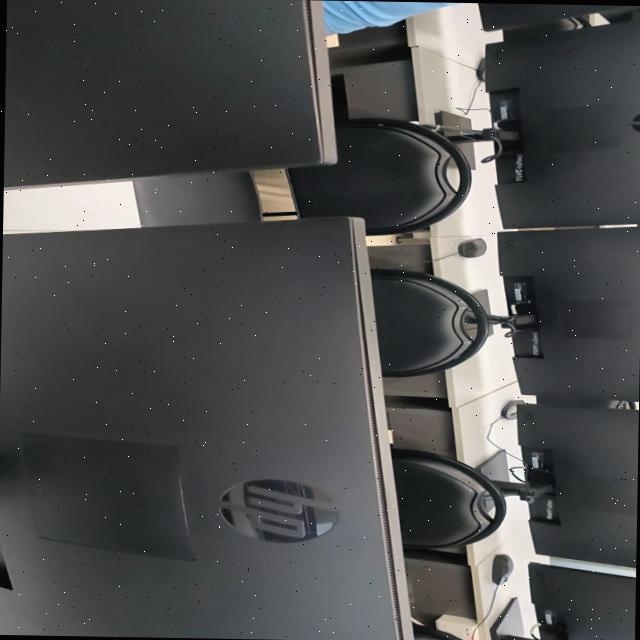Chair: (133, 119, 470, 235), (369, 268, 515, 376), (390, 447, 504, 548), (502, 18, 589, 41), (536, 394, 635, 409), (412, 623, 463, 640)
Monitor: (0, 218, 411, 640), (2, 0, 335, 191), (423, 19, 640, 228), (469, 226, 640, 401), (475, 402, 638, 567), (488, 562, 636, 640), (478, 3, 640, 31)
Mouse: (491, 554, 512, 584), (457, 237, 485, 257), (500, 400, 524, 419), (474, 58, 484, 81)
